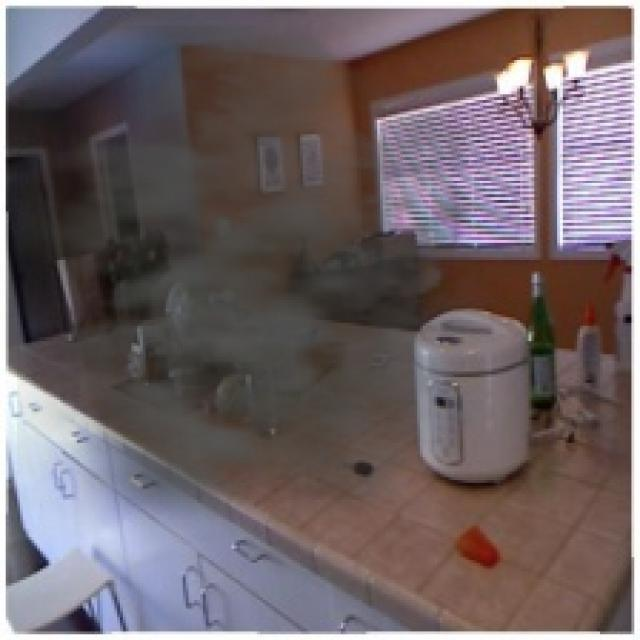Smoke: (17, 26, 537, 546)
